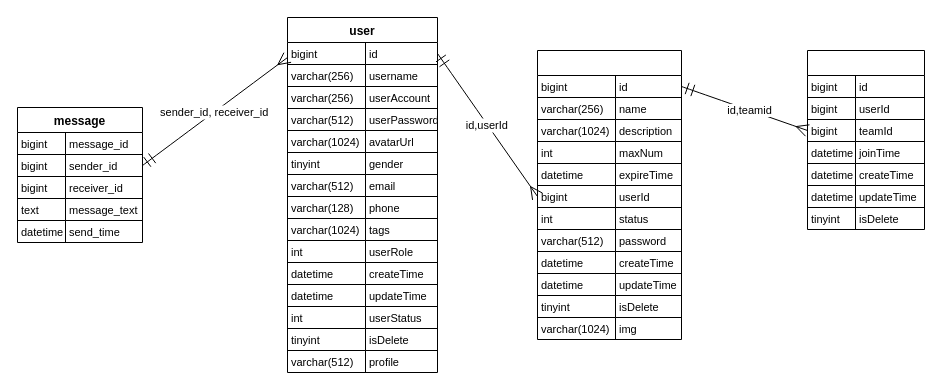
Image size: 942x390. Some labels were removed from this diagram. Here are the shapes that lost their labels. From the top down, the box of each, then its label:
(806, 50, 924, 230): user_team
(536, 50, 682, 340): team
